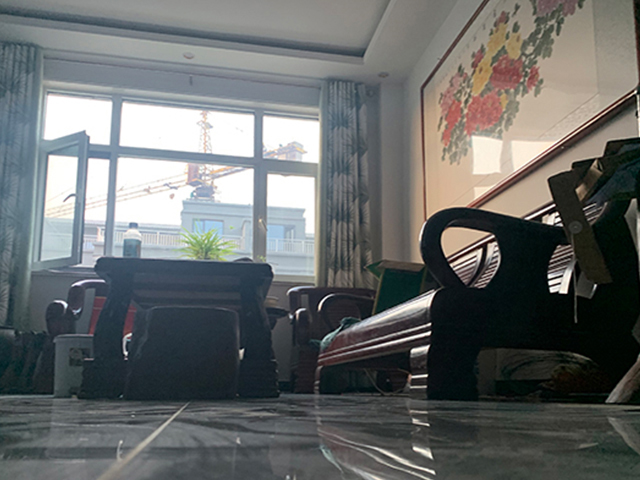curtain: (317, 76, 378, 289), (2, 39, 41, 338)
sofa: (312, 168, 619, 403)
table: (86, 256, 282, 398)
trashcan: (52, 333, 93, 399)
